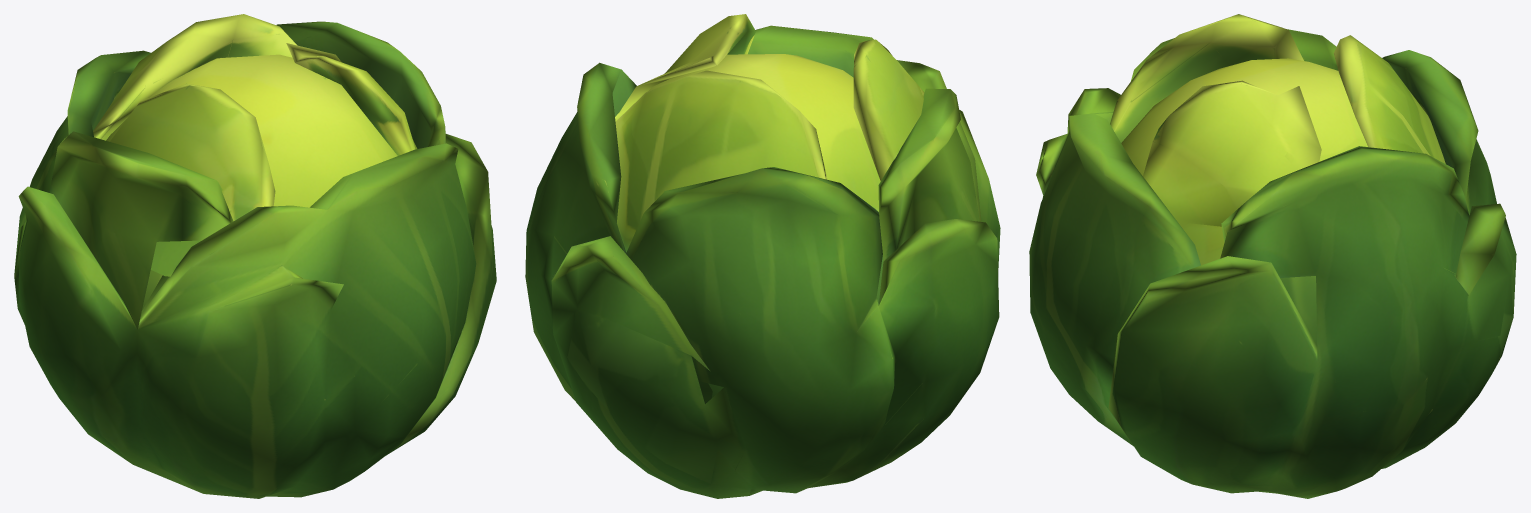
File: Cabbage.fbx
3 views of the same model, side by side, from view 1: azimuth 30°, elevation 25°; view 2: azimuth 150°, elevation 25°; view 3: azimuth 270°, elevation 25° (orthographic).
Parts seen in each view (by area): view 1: mesh_node; view 2: mesh_node; view 3: mesh_node.
Boxes of the visible parts, <box> form: mesh_node: <box>14,14,496,498</box>; mesh_node: <box>525,14,1000,498</box>; mesh_node: <box>1029,14,1516,498</box>.
Size of the model in its own units: 99.8 by 96.48 by 100.
1 material, 1 textured.
